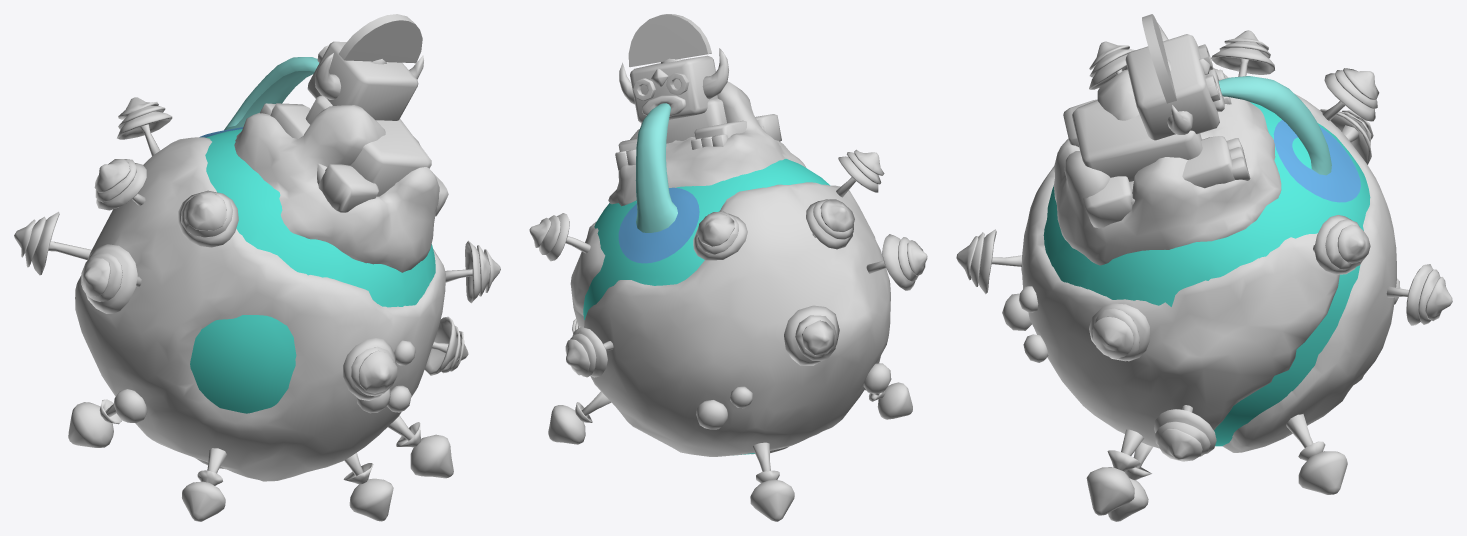
The model's file is sm_planet_why_lod0.gltf.
3 renders of one model, left to right at view 1: azimuth 30°, elevation 25°; view 2: azimuth 150°, elevation 25°; view 3: azimuth 270°, elevation 25°, orthographic. The views are drawn at different scales.
Parts seen in each view (by area): view 1: sm_planet_why; view 2: sm_planet_why; view 3: sm_planet_why.
Boxes of the visible parts, box(x1,y1,x2,y2) form: sm_planet_why: box(14, 14, 500, 521); sm_planet_why: box(529, 14, 927, 521); sm_planet_why: box(956, 14, 1452, 521).
Size of the model in its own units: 2.49 by 2.99 by 2.62.
